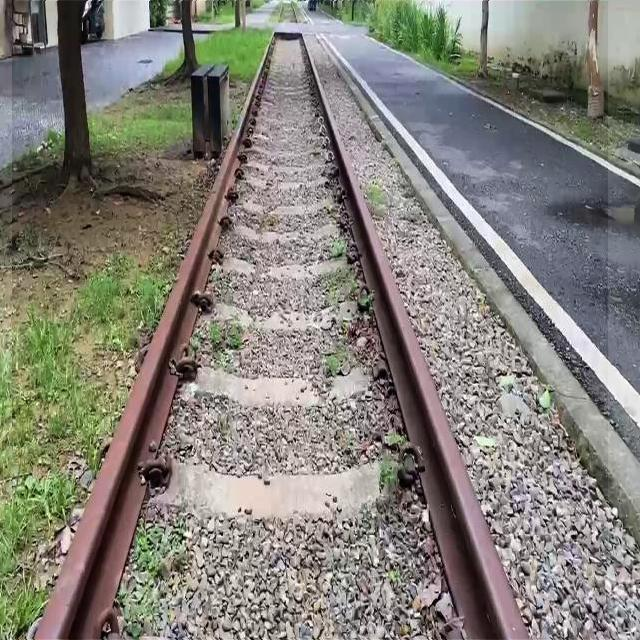rail: (14, 3, 609, 640)
